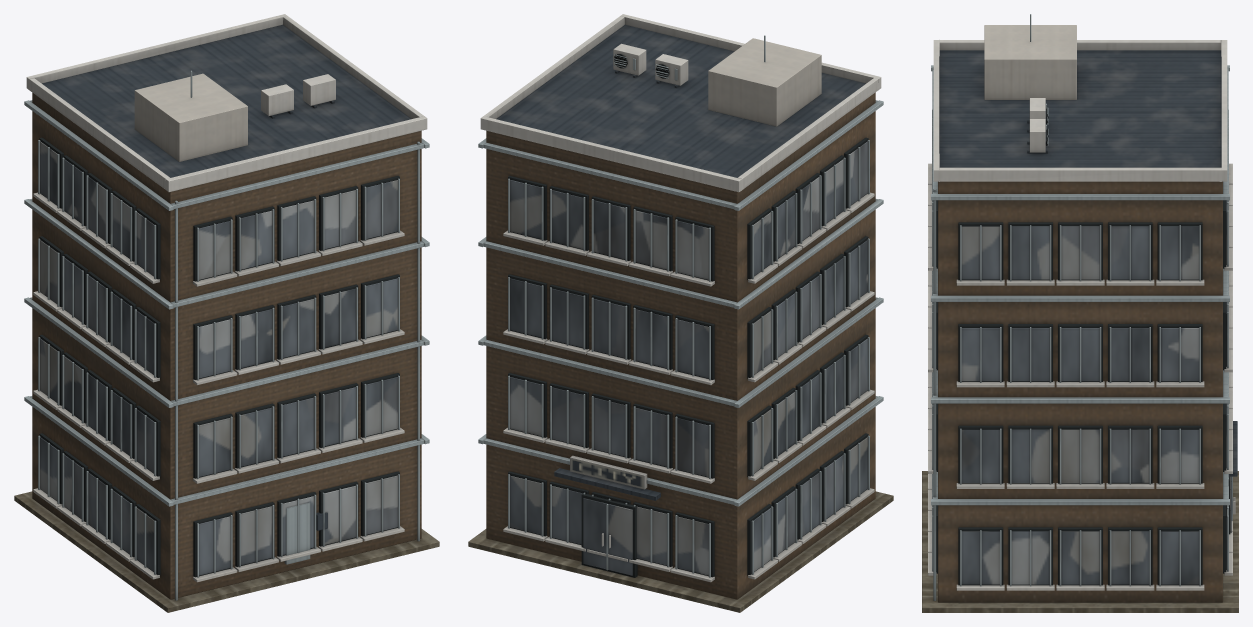
File: office_003.obj
The picture shows the model from 3 angles, left to right: view 1: azimuth 30°, elevation 25°; view 2: azimuth 150°, elevation 25°; view 3: azimuth 270°, elevation 25°; orthographic projection. The views are drawn at different scales.
Parts seen in each view (by area): view 1: office_003; view 2: office_003; view 3: office_003.
Boxes of the visible parts, bbox=[...] form: office_003: bbox=[14, 14, 439, 612]; office_003: bbox=[468, 14, 893, 612]; office_003: bbox=[922, 14, 1238, 612].
Bounding box in the file's own units: 9.1 × 15.5 × 8.9.
1 material, 1 textured.
